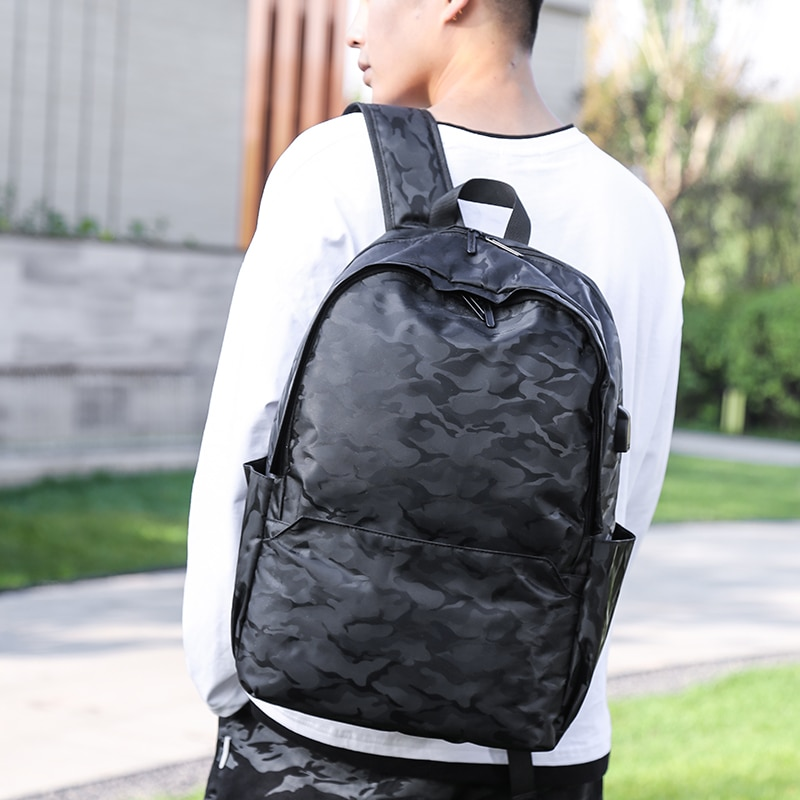Men's Backpacks: (226, 102, 640, 750)
Tops|Shirts: (176, 115, 679, 522)
